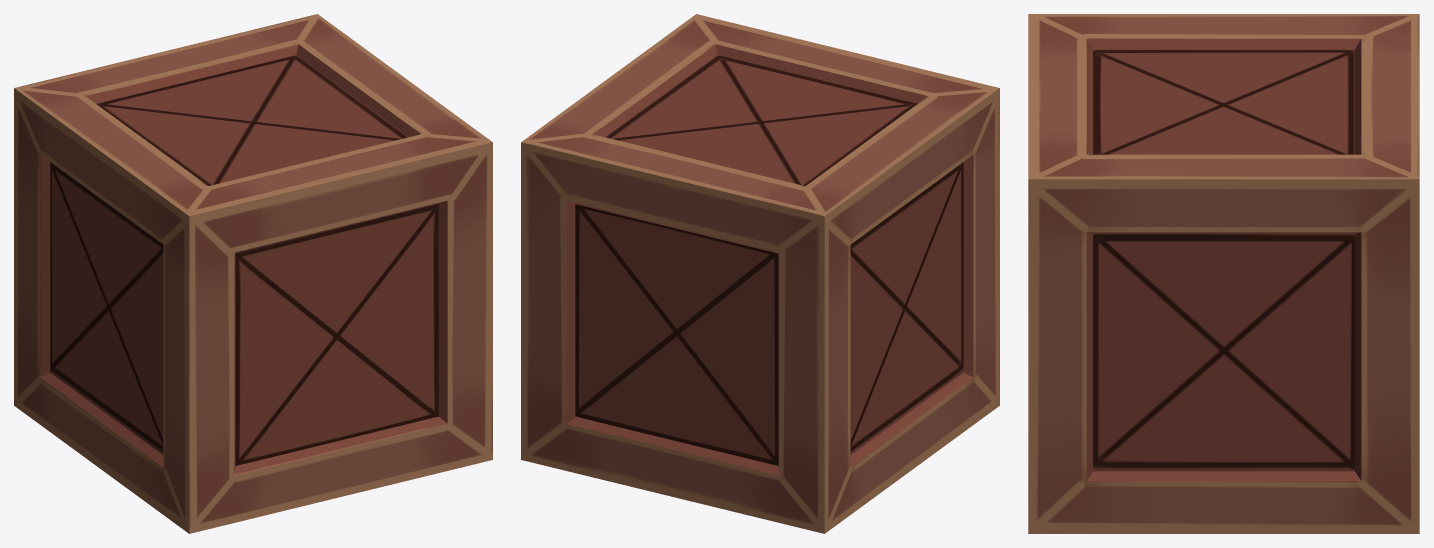
The model's file is SM_PRP_Box.fbx.
The picture shows the model from 3 angles, left to right: view 1: azimuth 30°, elevation 25°; view 2: azimuth 150°, elevation 25°; view 3: azimuth 270°, elevation 25°; orthographic projection. The views are drawn at different scales.
Visible parts, largest first — view 1: Cube; view 2: Cube; view 3: Cube.
Part boxes in pixels (<box>): Cube: <box>14,14,492,533</box>; Cube: <box>521,14,999,533</box>; Cube: <box>1028,14,1419,533</box>.
Bounding box in the file's own units: 118 × 118 × 118.
Materials: 1 (1 with a texture image).
